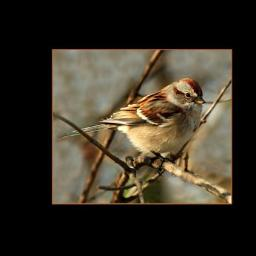Sparrow: (58, 77, 205, 178)
